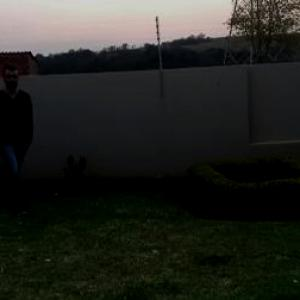follow: (2, 69, 46, 198)
